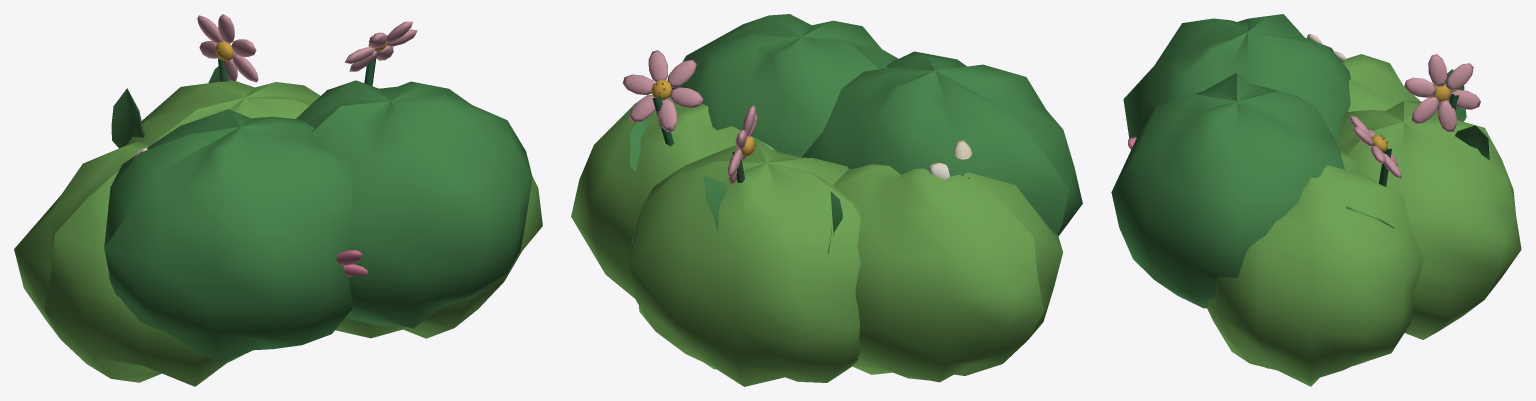
File: arbusto_flores.glb
The picture shows the model from 3 angles, left to right: view 1: azimuth 30°, elevation 25°; view 2: azimuth 150°, elevation 25°; view 3: azimuth 270°, elevation 25°; orthographic projection. The views are drawn at different scales.
Visible parts, largest first — view 1: arbusto_flores_ramas_0; view 2: arbusto_flores_ramas_0; view 3: arbusto_flores_ramas_0.
Boxes of the visible parts, <box> form: arbusto_flores_ramas_0: <box>14,14,542,386</box>; arbusto_flores_ramas_0: <box>571,14,1082,386</box>; arbusto_flores_ramas_0: <box>1111,14,1521,386</box>.
Size of the model in its own units: 0.955 by 0.564 by 0.7909.
